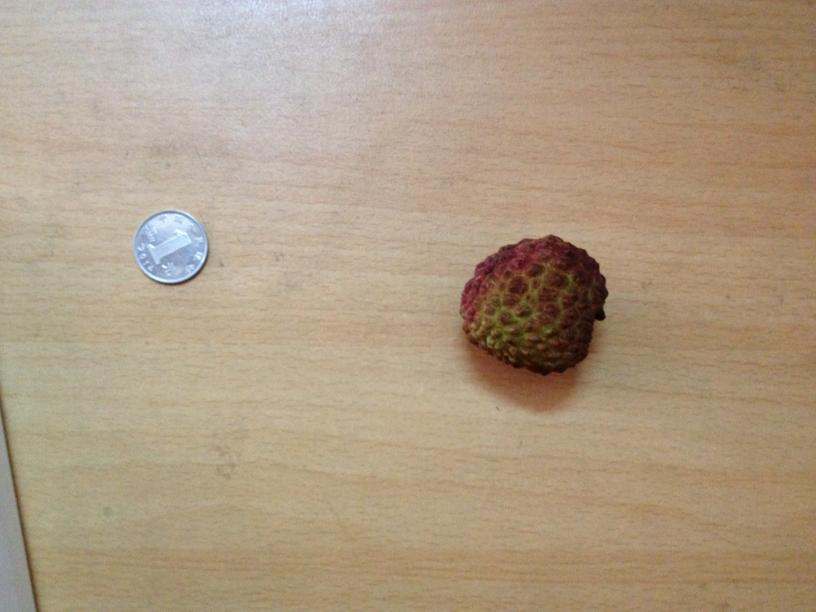coin: (134, 209, 210, 285)
litchi: (461, 231, 606, 376)
